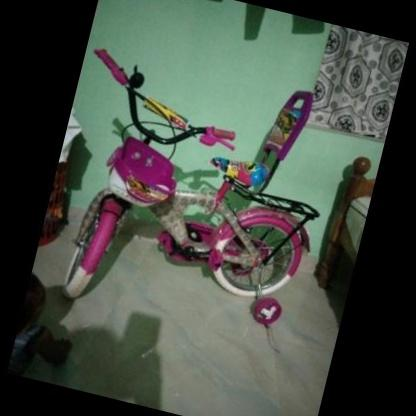Bicycle: (41, 22, 348, 322)
